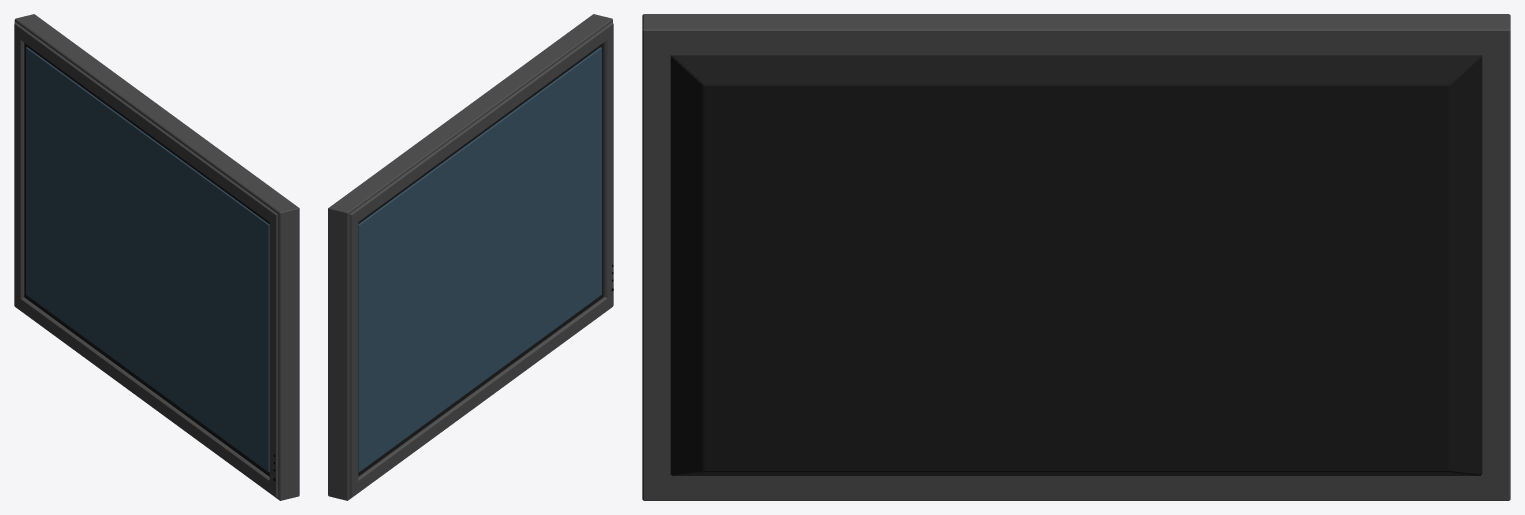
3 views of the same model, side by side, from view 1: azimuth 30°, elevation 25°; view 2: azimuth 150°, elevation 25°; view 3: azimuth 270°, elevation 25° (orthographic). The views are drawn at different scales.
Visible parts, largest first — view 1: plasma; view 2: plasma; view 3: plasma.
Boxes of the visible parts, x1,y1,x2,y2 form: plasma: (14,14,299,500); plasma: (328,14,613,500); plasma: (642,14,1510,500).
Bounding box in the file's own units: 96.54 × 678 × 1130.
